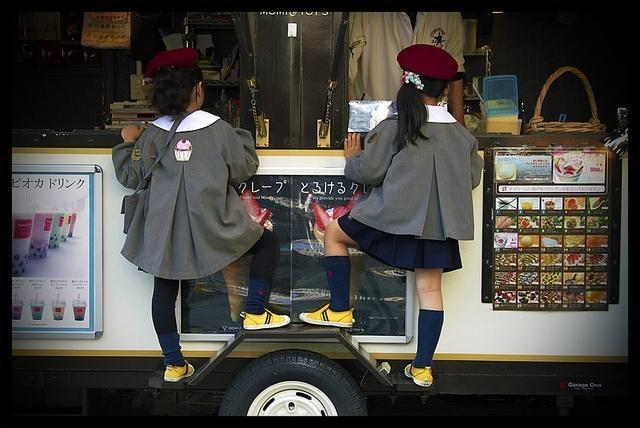truck: (0, 0, 640, 422)
